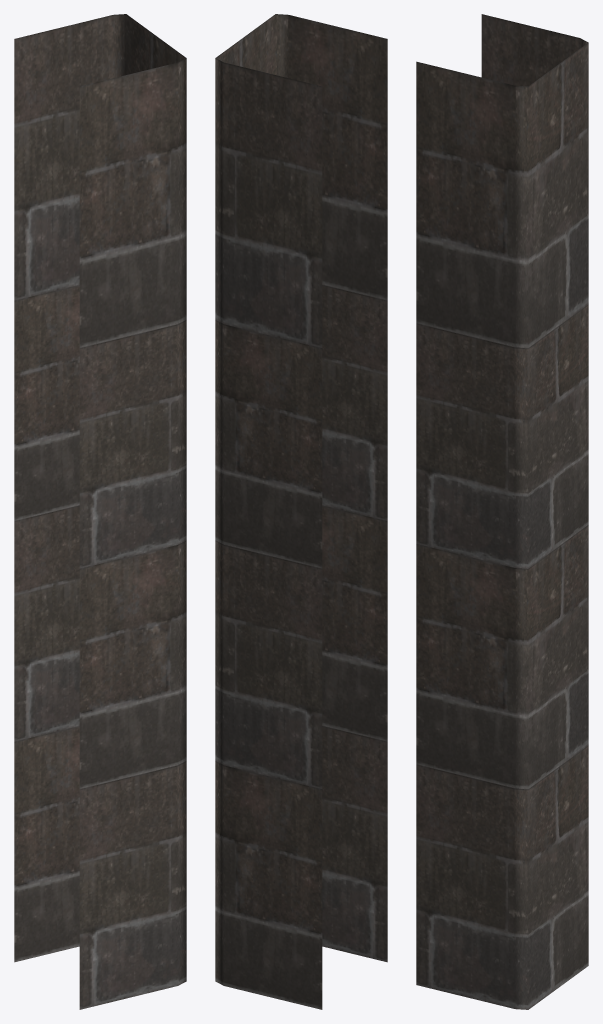
File: Psychiatric_Ward_Basement_Upper_Pillar.glb
The picture shows the model from 3 angles, left to right: view 1: azimuth 30°, elevation 25°; view 2: azimuth 150°, elevation 25°; view 3: azimuth 330°, elevation 25°; orthographic projection.
Visible parts, largest first — view 1: Psychiatric_Ward_Basement_Upper_Pillar; view 2: Psychiatric_Ward_Basement_Upper_Pillar; view 3: Psychiatric_Ward_Basement_Upper_Pillar.
Part boxes in pixels (<box>): Psychiatric_Ward_Basement_Upper_Pillar: <box>14,14,186,1009</box>; Psychiatric_Ward_Basement_Upper_Pillar: <box>215,14,387,1009</box>; Psychiatric_Ward_Basement_Upper_Pillar: <box>416,14,588,1009</box>.
Size of the model in its own units: 0.3438 by 2.77 by 0.3539.
Materials: 1 (1 with a texture image).
